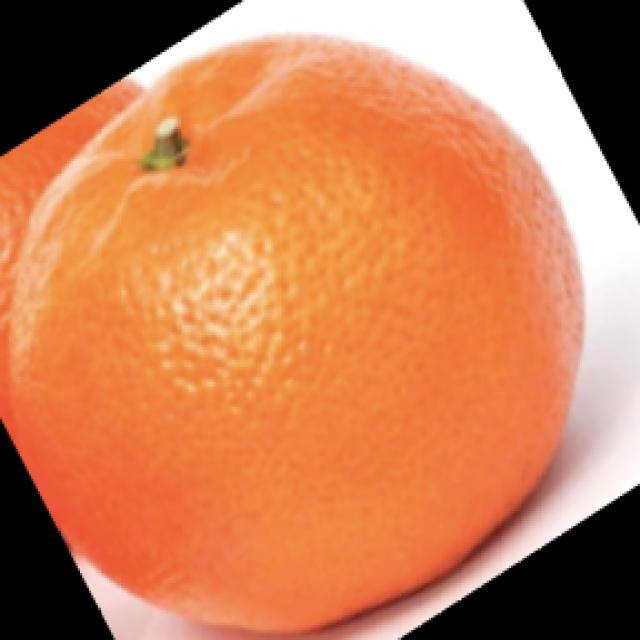fresh: (2, 23, 584, 640)
